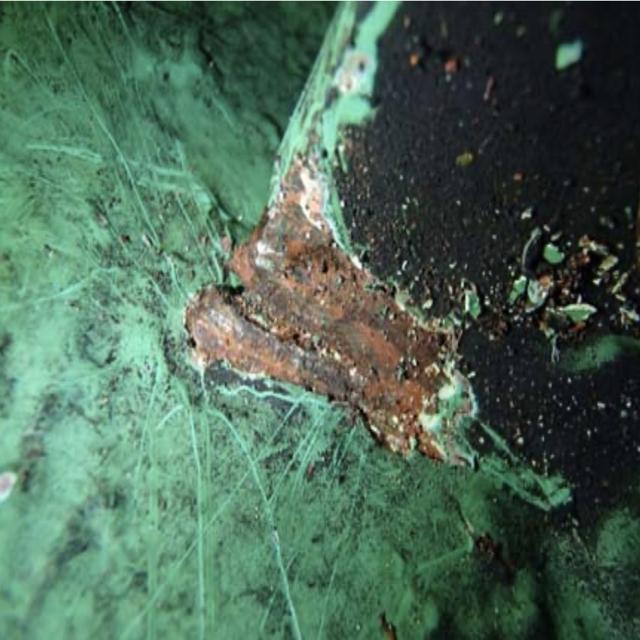corrosion: (197, 120, 492, 493)
